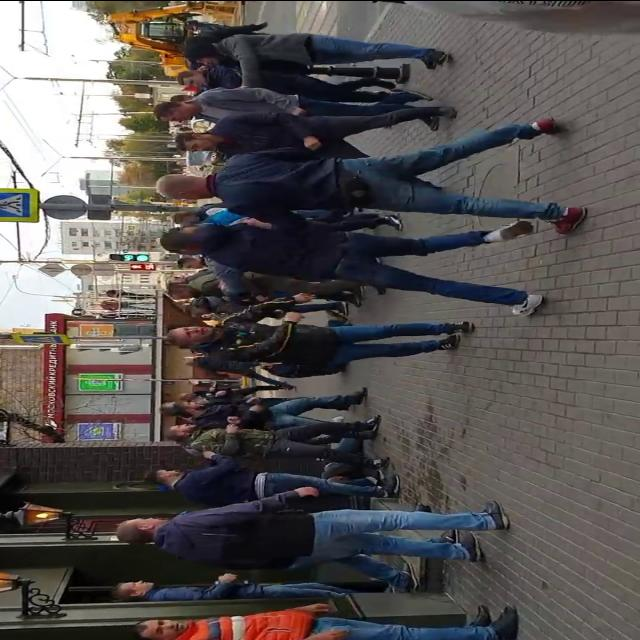NonViolence: (111, 484, 507, 566)
